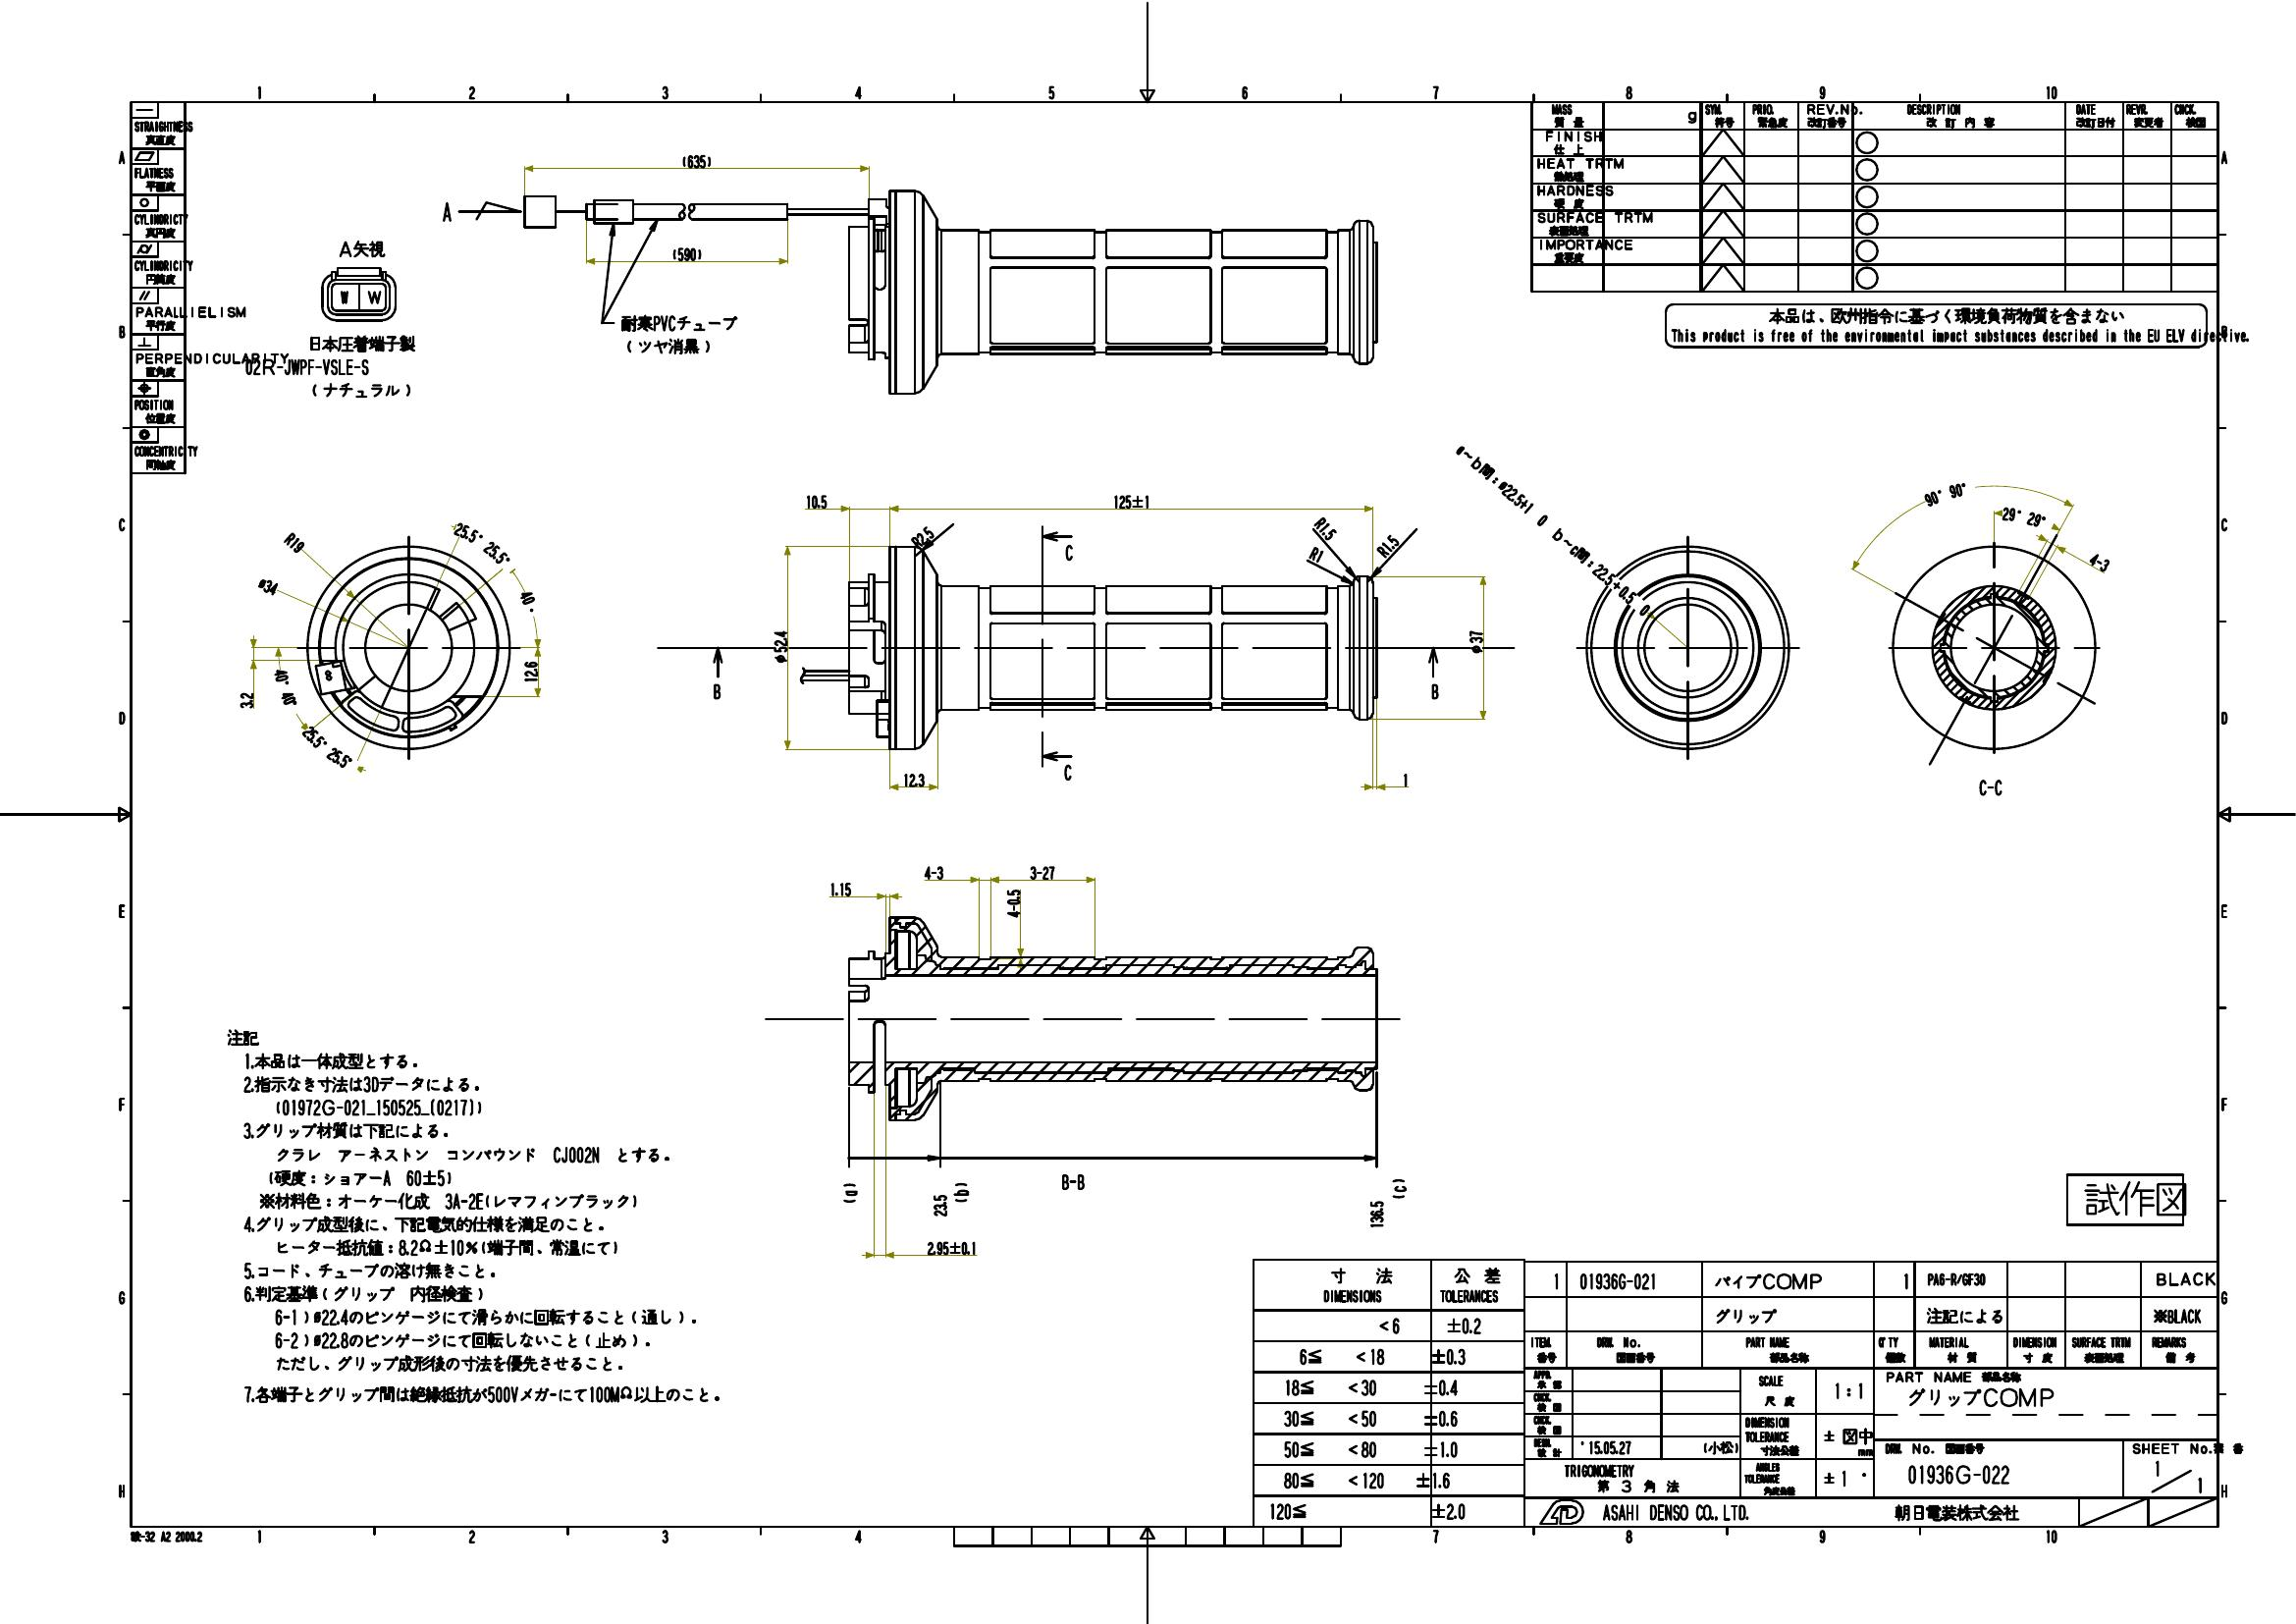anntotation_text: (220, 1019, 727, 1413), (1664, 304, 2206, 348), (242, 334, 418, 399), (2066, 1172, 2185, 1225), (620, 309, 741, 359), (337, 237, 390, 258), (130, 1529, 207, 1543), (1548, 540, 1599, 557), (1449, 457, 1505, 473), (1973, 775, 2006, 798), (1058, 1171, 1087, 1190), (840, 1179, 859, 1207), (1390, 1176, 1411, 1200), (954, 1178, 971, 1204), (439, 202, 457, 225), (1061, 543, 1079, 564), (711, 680, 726, 705), (1059, 763, 1077, 780), (365, 288, 381, 306), (1428, 682, 1440, 701), (337, 290, 351, 304)
dimension_text: (448, 536, 516, 554), (1585, 582, 1658, 598), (297, 740, 357, 758), (1493, 497, 1556, 513), (1999, 508, 2048, 526), (926, 1241, 977, 1257), (1924, 485, 1969, 501), (682, 149, 715, 169), (278, 668, 293, 708), (1110, 492, 1151, 508), (671, 243, 703, 262), (1368, 1199, 1386, 1232), (771, 629, 787, 664), (1003, 888, 1021, 917), (1465, 629, 1483, 656), (1372, 538, 1400, 554), (1028, 865, 1056, 881), (829, 879, 854, 896), (235, 689, 253, 712), (931, 1193, 949, 1216), (1310, 520, 1339, 534), (281, 534, 306, 550), (522, 659, 538, 684), (922, 865, 947, 881), (899, 772, 926, 786), (912, 529, 936, 543), (2087, 554, 2112, 568), (515, 596, 541, 608), (256, 578, 279, 592), (1307, 545, 1325, 562), (805, 496, 829, 508), (1400, 768, 1411, 786), (321, 668, 334, 682)
object: (523, 188, 1377, 395), (799, 547, 1377, 749), (847, 917, 1377, 1121), (1585, 545, 1790, 750), (306, 545, 511, 749), (1892, 545, 2094, 749), (321, 267, 395, 322)
title_block: (1254, 1258, 2219, 1527), (1530, 102, 2217, 290), (130, 102, 186, 473)
